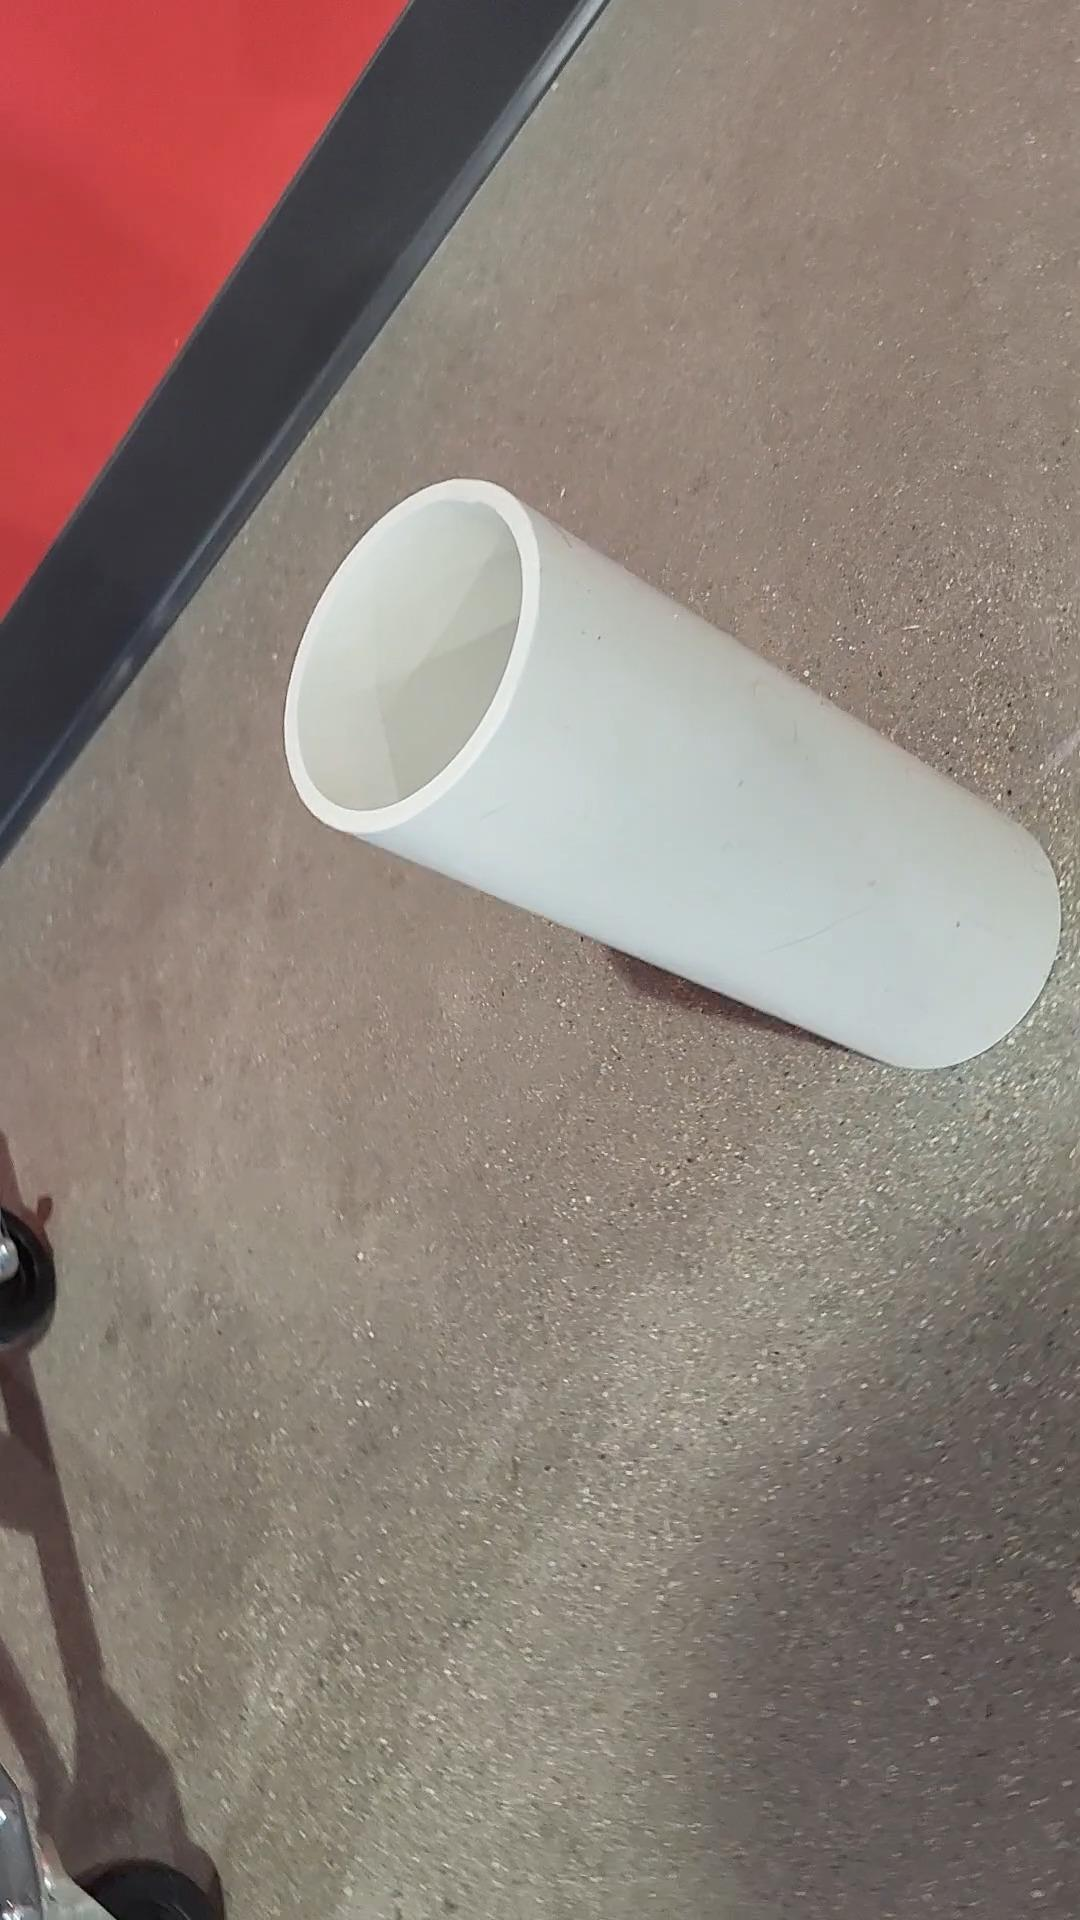coral: (273, 480, 1069, 1062)
